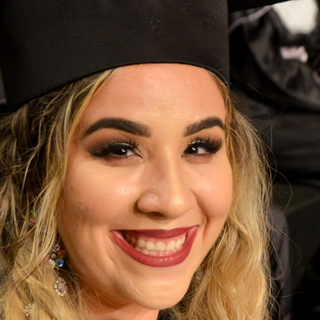eye: (90, 136, 146, 168), (176, 138, 224, 161)
